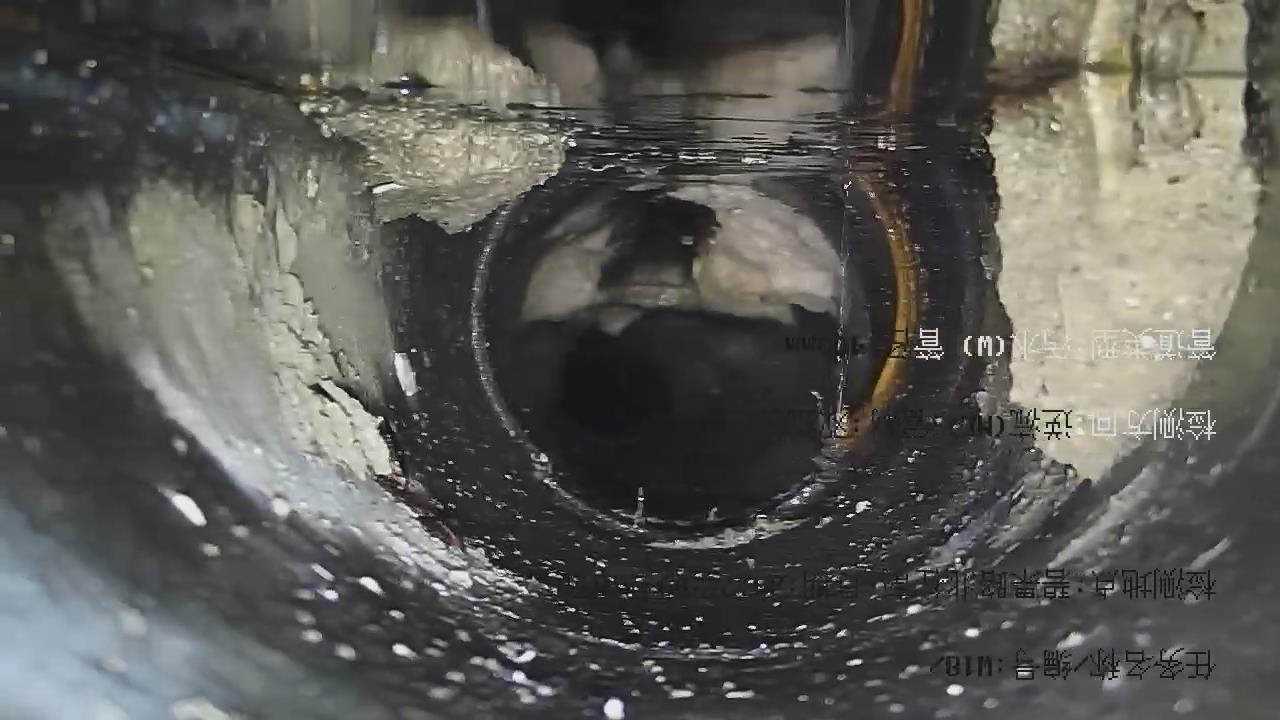JG: (990, 70, 1260, 481)
SG: (45, 151, 498, 589), (305, 98, 567, 233)
SL: (815, 158, 862, 452)
